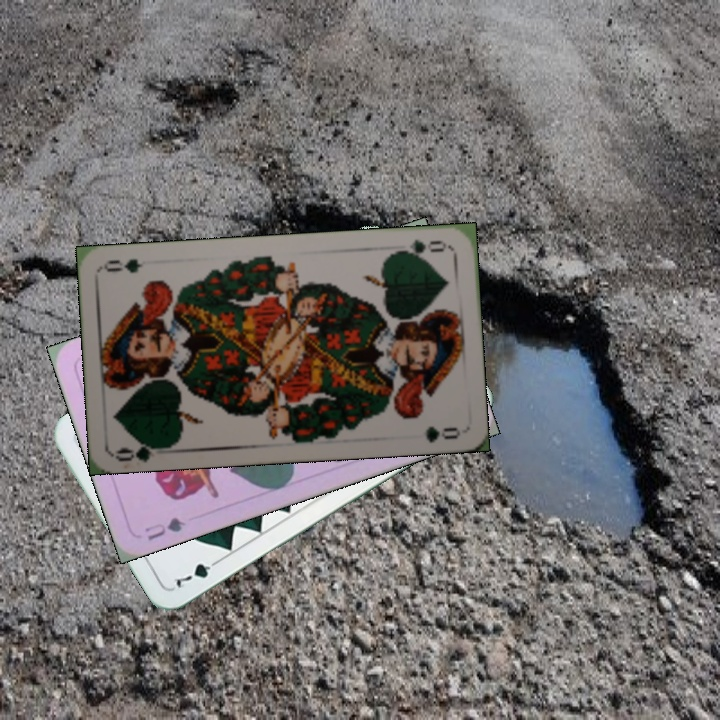G7: (171, 554, 224, 591)
GO: (113, 436, 172, 464), (392, 235, 451, 260)
GU: (141, 512, 188, 544)
